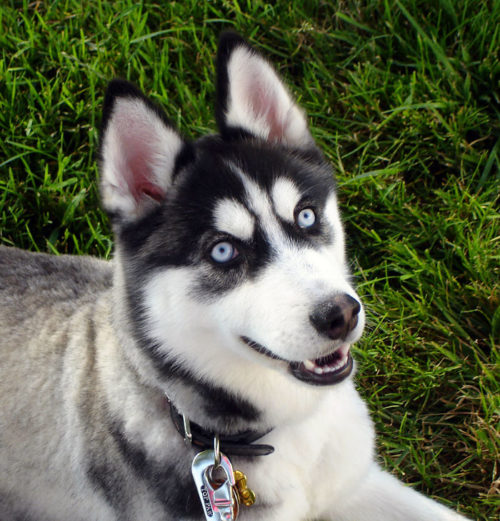husky: (52, 32, 386, 519)
